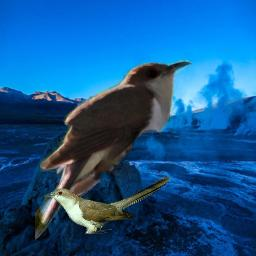Cuckoo: (35, 58, 192, 245), (44, 176, 170, 234)
